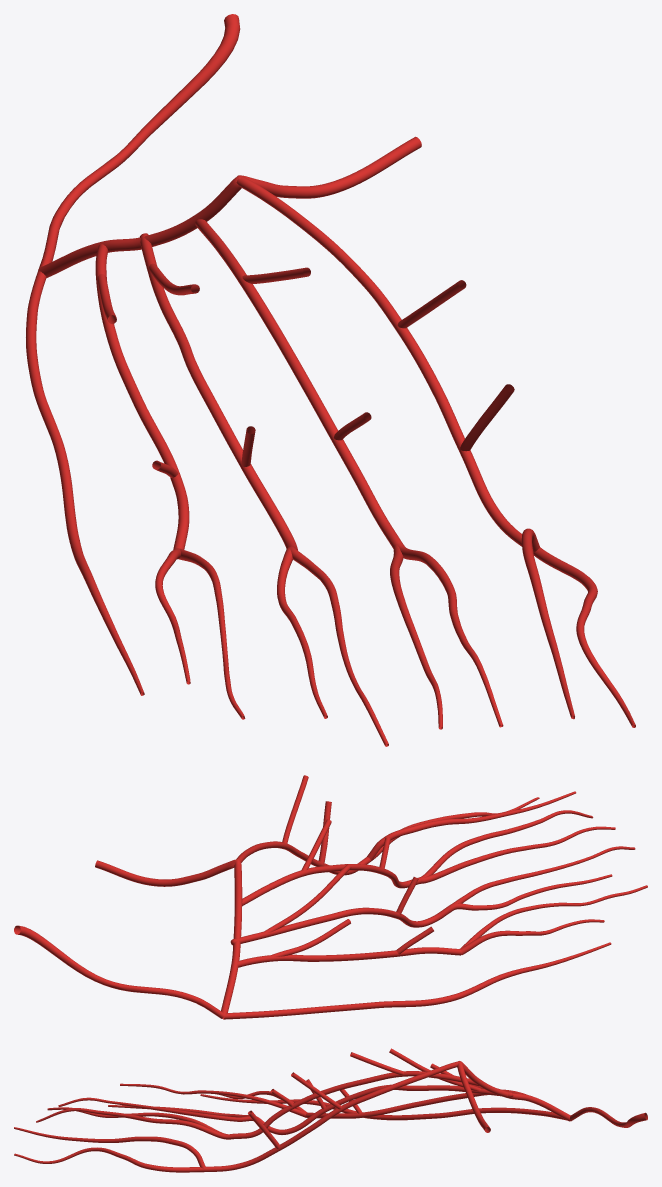
The model's file is circulatorio-lateral-plantar-artery-r.glb.
3 views of the same model, one above another, from view 1: azimuth 30°, elevation 25°; view 2: azimuth 150°, elevation 25°; view 3: azimuth 270°, elevation 25° (orthographic). The views are drawn at different scales.
Visible parts, largest first — view 1: Proper plantar digital arteries.r, Plantar metatarsal arteries.r, Plantar arch.r, Common plantar digital arteries.r, Perforating branches of plantar metatarsal arteries.r, Lateral plantar artery.r; view 2: Proper plantar digital arteries.r, Plantar metatarsal arteries.r, Perforating branches of plantar metatarsal arteries.r, Plantar arch.r, Lateral plantar artery.r, Common plantar digital arteries.r; view 3: Proper plantar digital arteries.r, Plantar metatarsal arteries.r, Perforating branches of plantar metatarsal arteries.r, Common plantar digital arteries.r, Plantar arch.r, Lateral plantar artery.r.
Part boxes in pixels (x1,y1,x2,y2): Proper plantar digital arteries.r: [26, 271, 635, 746]; Plantar metatarsal arteries.r: [95, 176, 464, 472]; Plantar arch.r: [38, 136, 421, 277]; Common plantar digital arteries.r: [170, 438, 522, 550]; Perforating branches of plantar metatarsal arteries.r: [97, 263, 514, 477]; Lateral plantar artery.r: [39, 14, 240, 268]; Proper plantar digital arteries.r: [222, 791, 647, 1019]; Plantar metatarsal arteries.r: [230, 841, 400, 967]; Perforating branches of plantar metatarsal arteries.r: [264, 775, 433, 956]; Plantar arch.r: [95, 859, 242, 1015]; Lateral plantar artery.r: [14, 925, 224, 1018]; Common plantar digital arteries.r: [323, 857, 461, 956]; Proper plantar digital arteries.r: [14, 1083, 570, 1172]; Plantar metatarsal arteries.r: [279, 1061, 526, 1150]; Perforating branches of plantar metatarsal arteries.r: [248, 1048, 500, 1148]; Common plantar digital arteries.r: [204, 1105, 360, 1171]; Plantar arch.r: [457, 1061, 570, 1132]; Lateral plantar artery.r: [570, 1107, 647, 1127].
Bounding box in the file's own units: 0.0839 × 0.0353 × 0.163.
